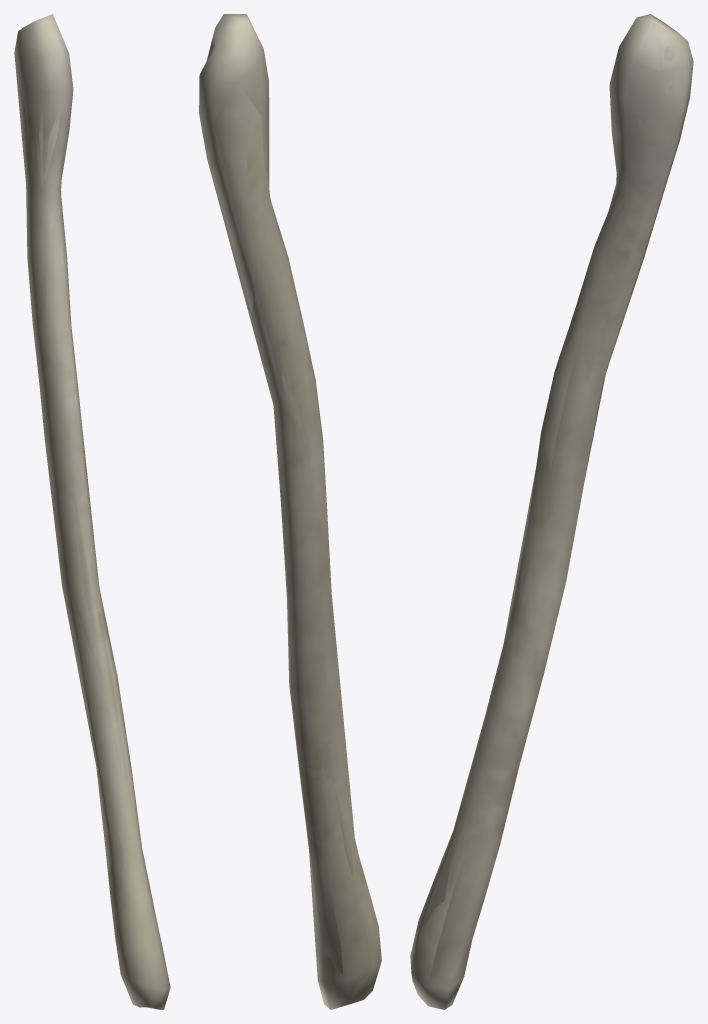
Rendered from L metatarsi tertium.fbx.
3 renders of one model, left to right at view 1: azimuth 30°, elevation 25°; view 2: azimuth 150°, elevation 25°; view 3: azimuth 270°, elevation 25°, orthographic. The views are drawn at different scales.
Parts seen in each view (by area): view 1: L metatarsi tertium, L metatarsi tertium low, L metatarsi tertium high; view 2: L metatarsi tertium, L metatarsi tertium low, L metatarsi tertium high; view 3: L metatarsi tertium, L metatarsi tertium low, L metatarsi tertium high.
Boxes of the visible parts, x1,y1,x2,y2 form: L metatarsi tertium: (14, 14, 170, 1009); L metatarsi tertium low: (14, 15, 169, 1006); L metatarsi tertium high: (27, 73, 153, 1008); L metatarsi tertium: (199, 14, 381, 1009); L metatarsi tertium low: (202, 14, 379, 1008); L metatarsi tertium high: (207, 44, 372, 995); L metatarsi tertium: (410, 14, 693, 1009); L metatarsi tertium low: (410, 14, 692, 1009); L metatarsi tertium high: (438, 41, 676, 995).
Size of the model in its own units: 0.3554 by 5.54 by 1.45.
Materials: 1 (1 with a texture image).
